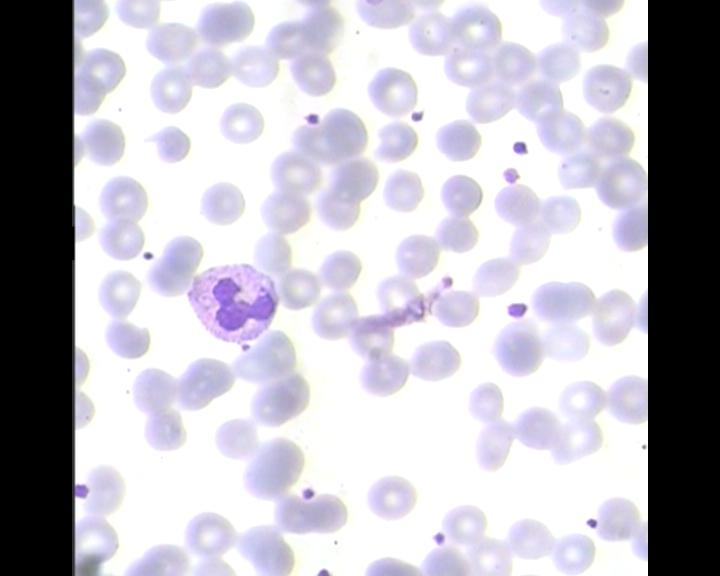neut: (183, 257, 279, 347)
